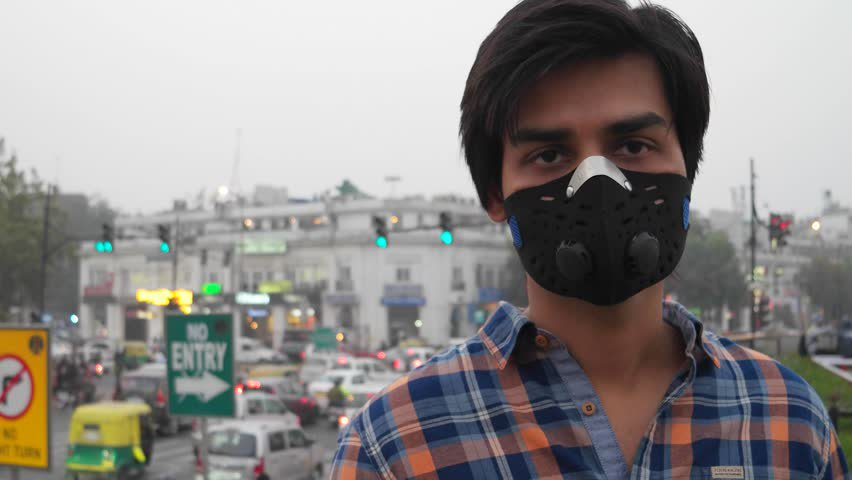mask: (447, 6, 738, 285)
